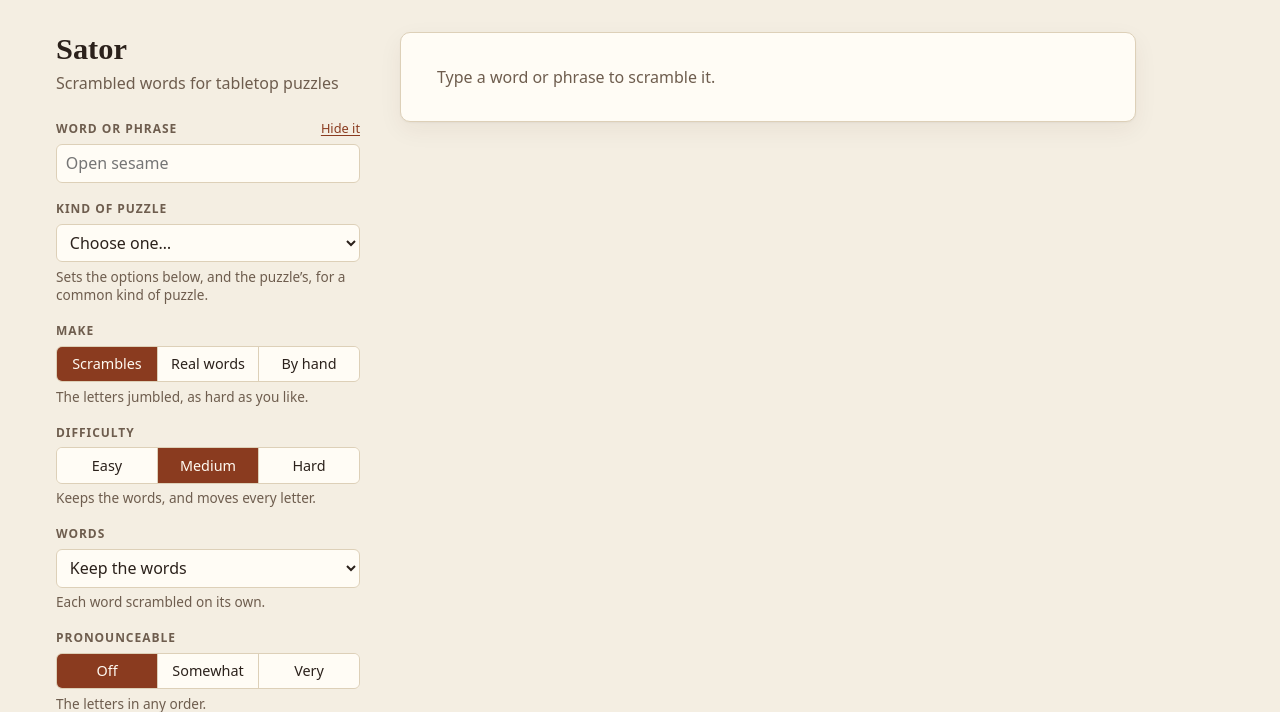
App › rerolls for new arrangements, and shows the seed
Type "password" into the field labelled "Word or phrase". click: (208, 163)
box: [56, 144, 360, 182]
(page scrolled)
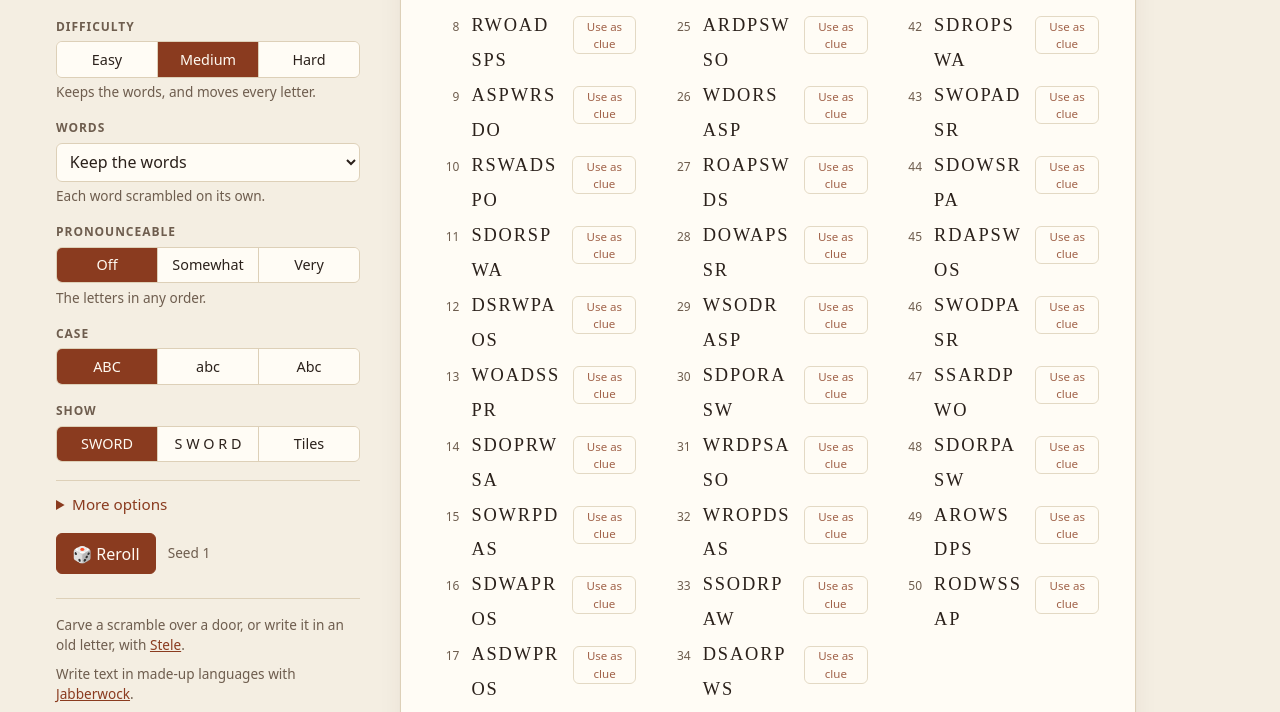
expect the text "Seed 1" is shown: met, box [168, 543, 210, 563]
Click the button "🎲 Reroll". click: (106, 553)
box: [56, 533, 156, 573]
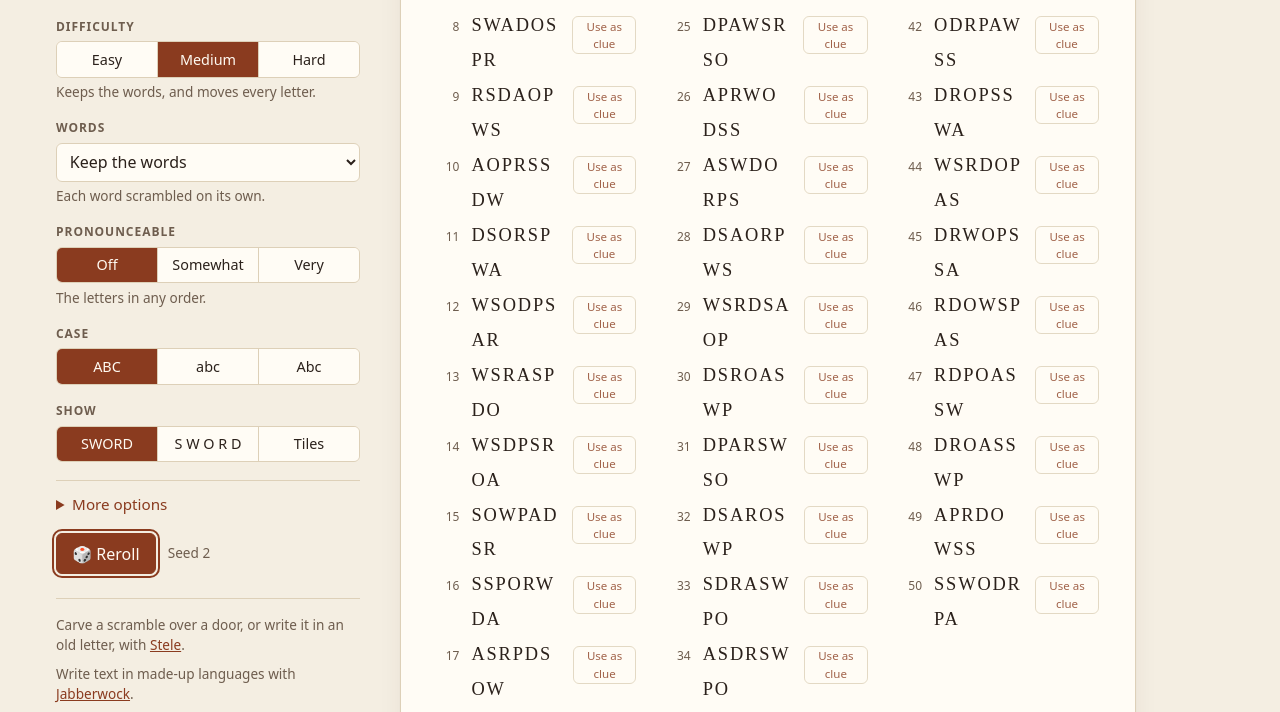
expect the text "Seed 2" is shown: met, box [168, 543, 210, 563]
